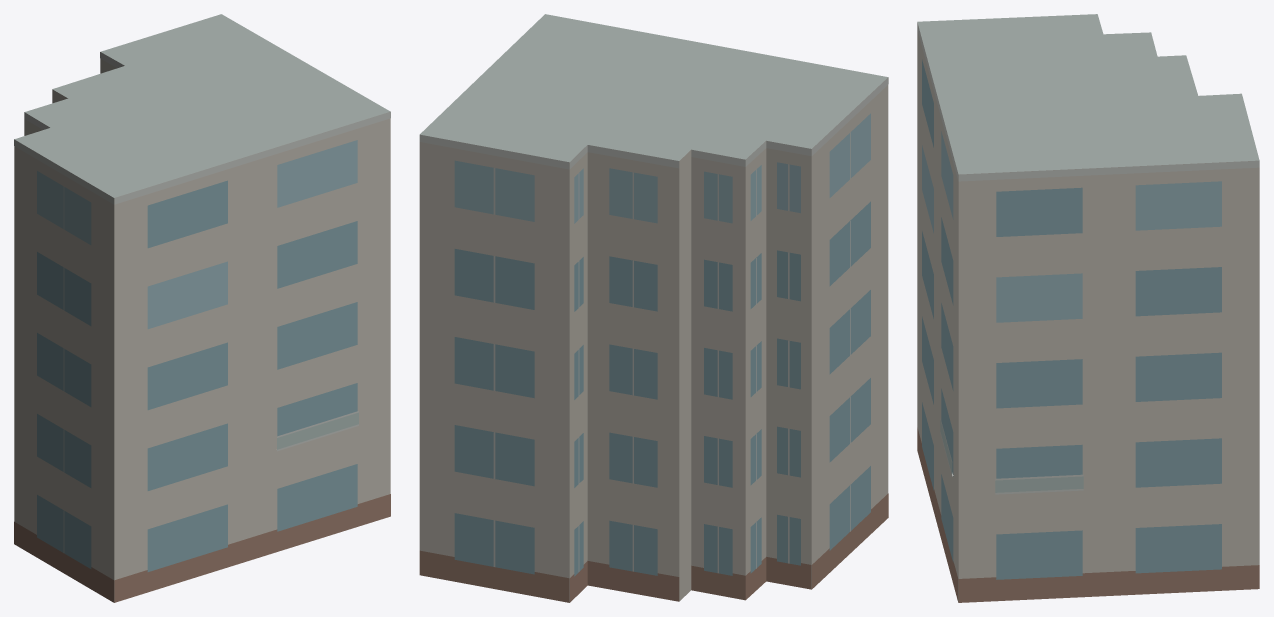
File: survey-upis-32750011.glb
3 views of the same model, side by side, from view 1: azimuth 30°, elevation 25°; view 2: azimuth 150°, elevation 25°; view 3: azimuth 270°, elevation 25° (orthographic). The views are drawn at different scales.
Visible parts, largest first — view 1: survey-upis-32750011.tmp; view 2: survey-upis-32750011.tmp; view 3: survey-upis-32750011.tmp.
Part boxes in pixels (x1=…): survey-upis-32750011.tmp: x1=14, y1=14, x2=390, y2=602; survey-upis-32750011.tmp: x1=419, y1=14, x2=888, y2=602; survey-upis-32750011.tmp: x1=917, y1=14, x2=1259, y2=602.
Size of the model in its own units: 11.82 by 14.7 by 10.66.
